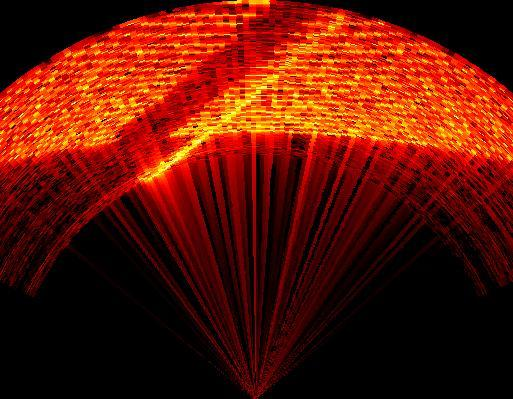pipe: (120, 4, 351, 183)
